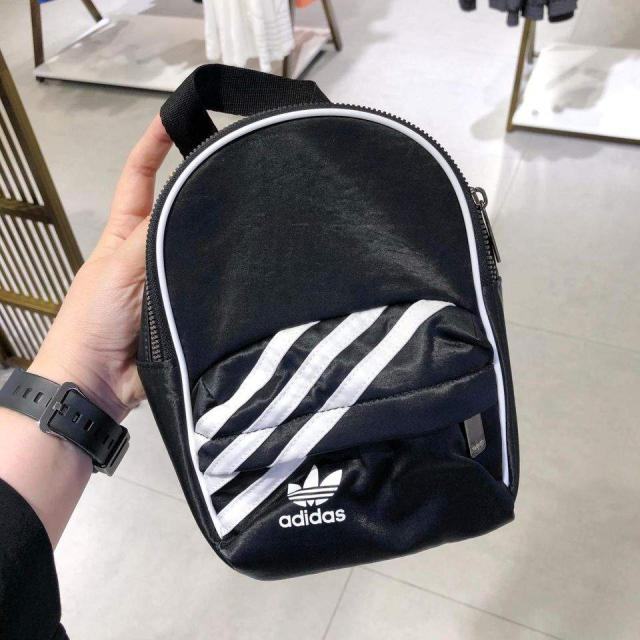Handbag: (137, 101, 517, 588)
